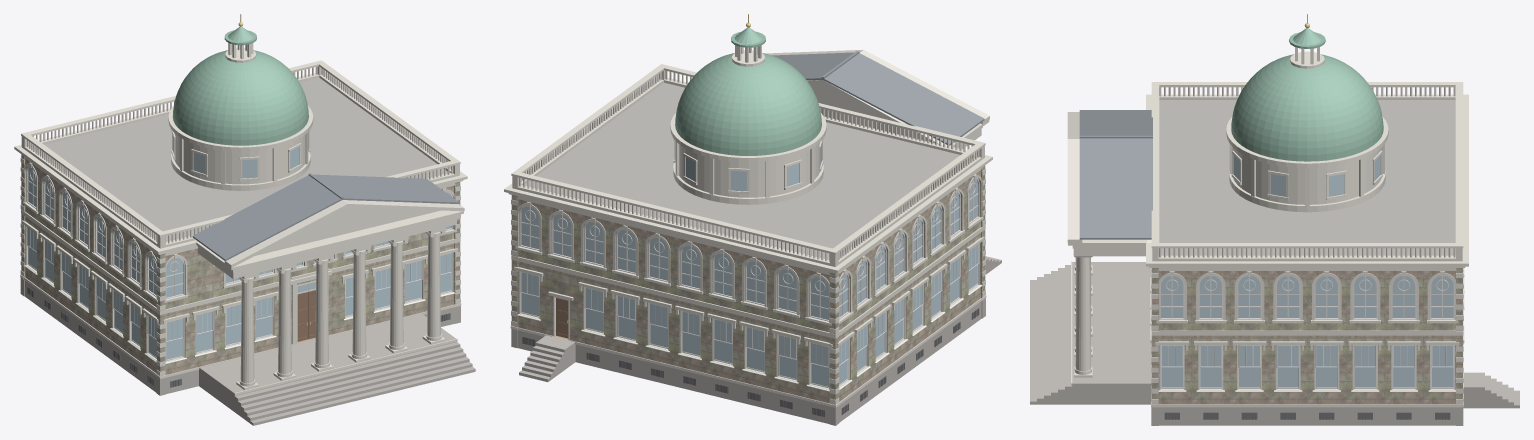
File: building_assembled.glb
3 renders of one model, left to right at view 1: azimuth 30°, elevation 25°; view 2: azimuth 150°, elevation 25°; view 3: azimuth 270°, elevation 25°, orthographic. The views are drawn at different scales.
Visible parts, largest first — view 1: building_cornice, building_roof, building_stone, building_granite, building_glass, building_copper, building_metal_roof, building_frame, building_sash, building_trim, building_door, building_dark; view 2: building_cornice, building_stone, building_roof, building_glass, building_copper, building_granite, building_frame, building_metal_roof, building_sash, building_dark, building_trim, building_iron (+1 smaller); view 3: building_cornice, building_roof, building_granite, building_stone, building_glass, building_copper, building_metal_roof, building_frame, building_sash, building_dark, building_trim.
Part boxes in pixels (box(x1,y1,x2,y2)): building_cornice: box(14, 43, 467, 395); building_roof: box(33, 77, 447, 241); building_stone: box(21, 154, 460, 376); building_granite: box(20, 277, 475, 425); building_glass: box(27, 132, 451, 359); building_copper: box(172, 26, 308, 145); building_metal_roof: box(192, 173, 459, 261); building_frame: box(26, 166, 453, 361); building_sash: box(27, 227, 452, 360); building_trim: box(24, 265, 455, 363); building_door: box(297, 290, 315, 341); building_dark: box(27, 286, 450, 387); building_cornice: box(504, 45, 992, 407); building_stone: box(511, 165, 985, 404); building_roof: box(525, 82, 972, 259); building_glass: box(521, 144, 978, 386); building_copper: box(675, 27, 821, 155); building_granite: box(511, 256, 1001, 425); building_frame: box(519, 177, 979, 389); building_metal_roof: box(772, 51, 984, 145); building_sash: box(520, 244, 979, 388); building_dark: box(522, 308, 979, 417); building_trim: box(517, 284, 982, 391); building_iron: box(523, 308, 978, 416); building_cornice: box(1067, 47, 1468, 407); building_roof: box(1158, 100, 1455, 255); building_granite: box(1030, 262, 1519, 425); building_stone: box(1151, 268, 1462, 404); building_glass: box(1161, 155, 1453, 387); building_copper: box(1231, 28, 1383, 161); building_metal_roof: box(1079, 110, 1152, 239); building_frame: box(1159, 275, 1454, 389); building_sash: box(1161, 345, 1453, 388); building_dark: box(1164, 412, 1450, 419); building_trim: box(1151, 352, 1463, 391).
Bounding box in the file's own units: 20.72 × 18.83 × 25.36.
19 materials, 2 textured.
